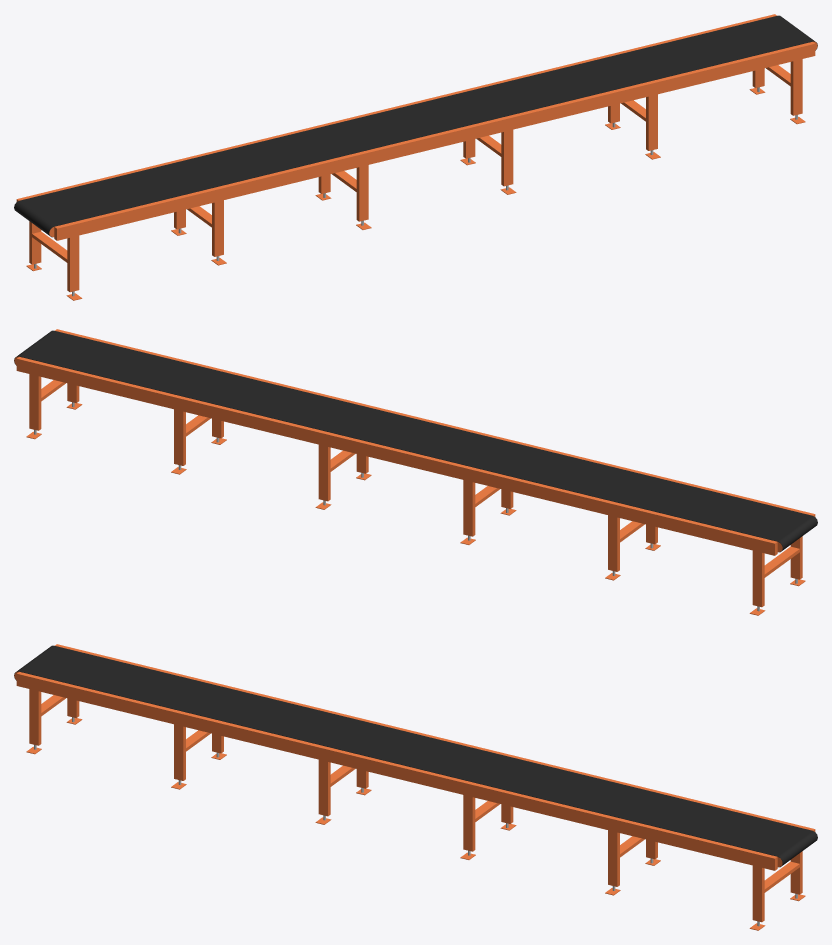
Rendered from Linea_Principal.dae.
3 renders of one model, top to bottom at view 1: azimuth 30°, elevation 25°; view 2: azimuth 150°, elevation 25°; view 3: azimuth 330°, elevation 25°, orthographic.
Parts seen in each view (by area): view 1: Linea_Principal (×11); view 2: Linea_Principal (×11); view 3: Linea_Principal (×11).
Boxes of the visible parts, left/top/right/bottom form: Linea_Principal (×11): left=17, top=14, right=817, bottom=292; Linea_Principal (×11): left=14, top=329, right=814, bottom=607; Linea_Principal (×11): left=14, top=644, right=814, bottom=922.
Bounding box in the file's own units: 6.59 × 0.7 × 0.6.
